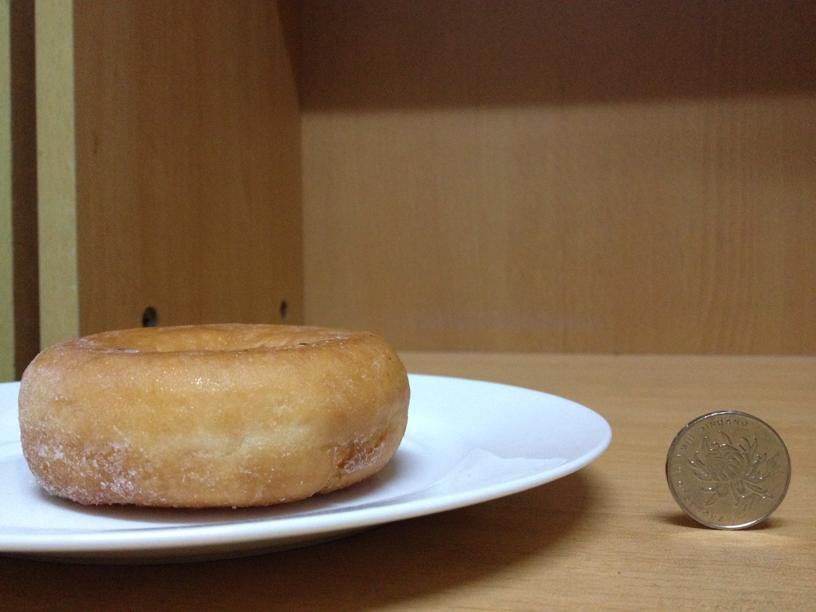coin: (666, 408, 791, 529)
doughnut: (19, 321, 412, 510)
